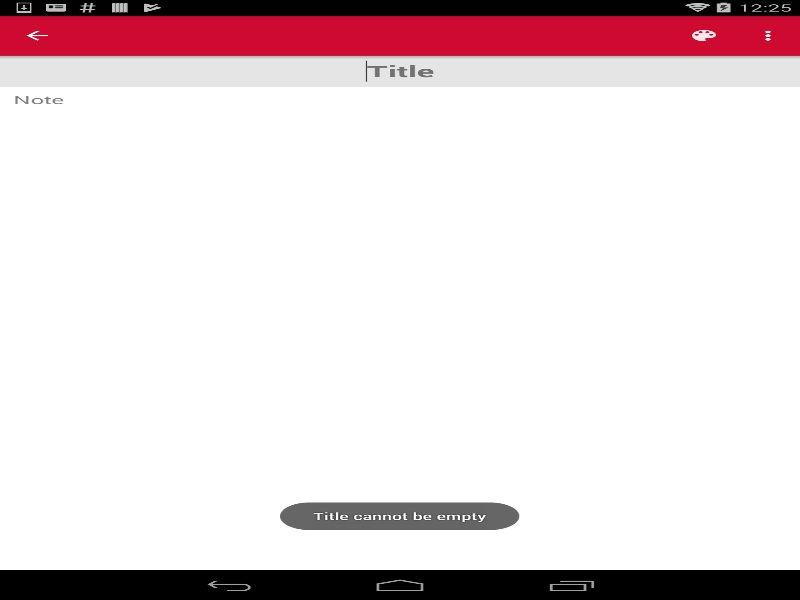Button: (0, 18, 74, 53)
Input: (0, 55, 800, 86), (0, 91, 800, 107)
